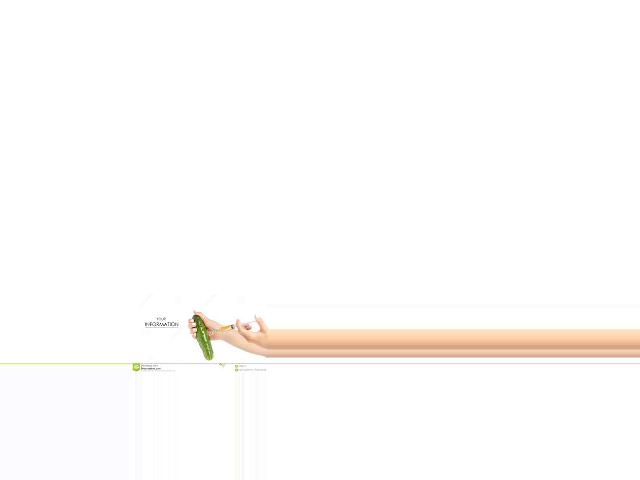cucumber: (193, 314, 214, 360)
